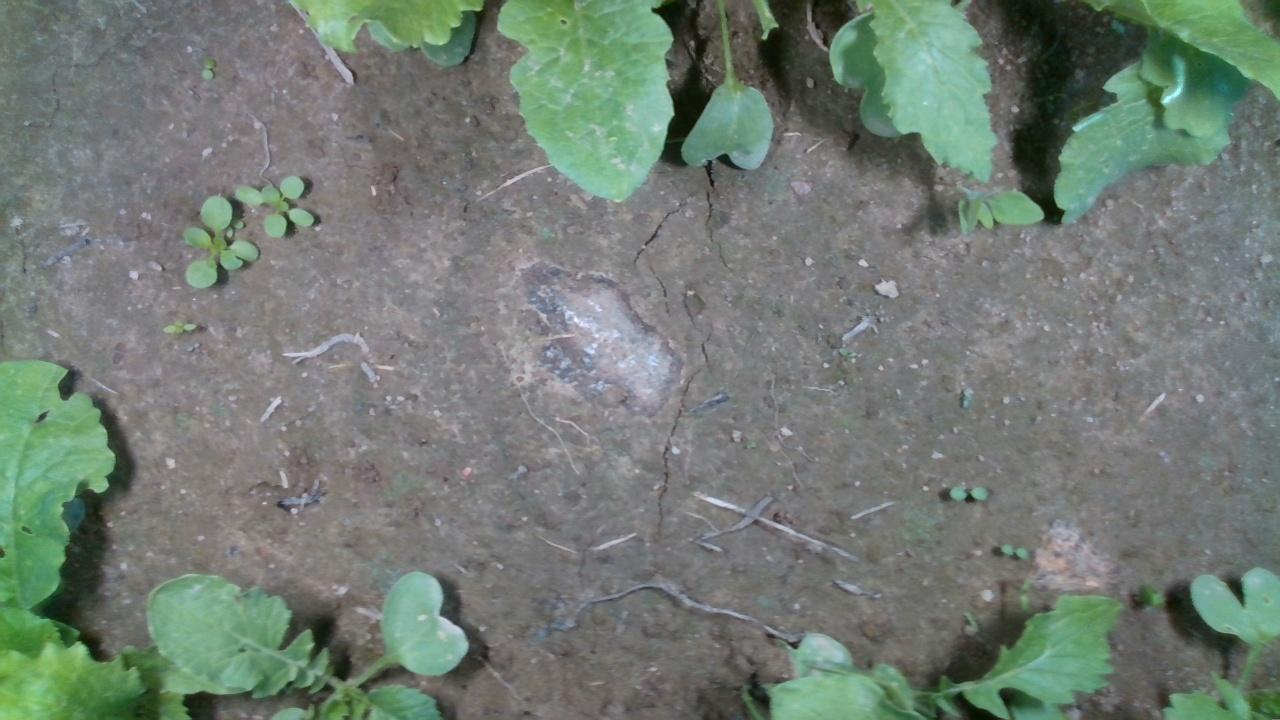weed: (946, 482, 990, 501), (157, 316, 198, 336), (998, 541, 1030, 558), (200, 54, 216, 81), (180, 339, 200, 354)
